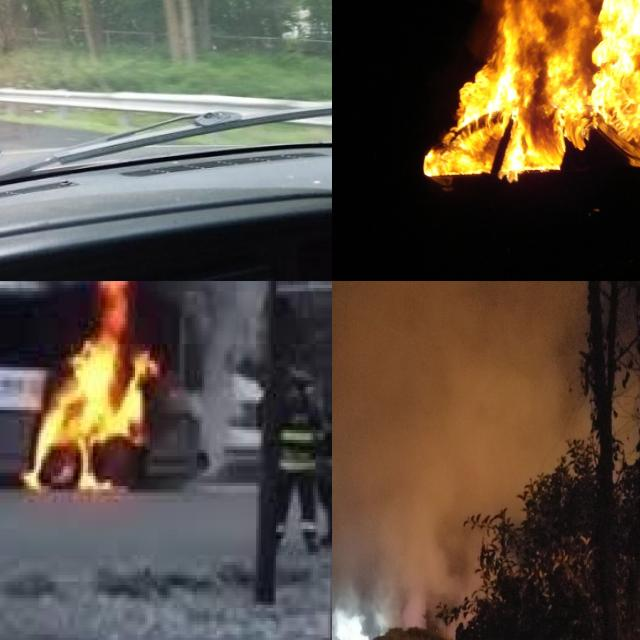fire: (417, 0, 640, 173), (14, 281, 177, 489)
smoke: (332, 281, 587, 640), (192, 281, 266, 476), (612, 367, 640, 461)
